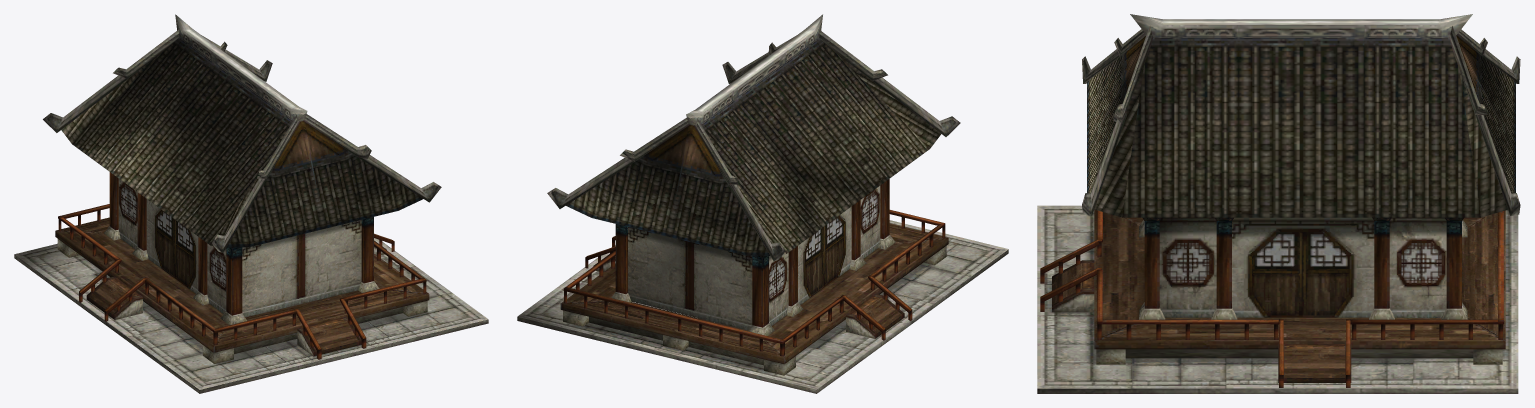
File: b1-008-house5_lod_01.glb
3 renders of one model, left to right at view 1: azimuth 30°, elevation 25°; view 2: azimuth 150°, elevation 25°; view 3: azimuth 270°, elevation 25°, orthographic. The views are drawn at different scales.
Parts seen in each view (by area): view 1: b1-008-house5-01, b1-008-house5-03, b1-008-house5-02; view 2: b1-008-house5-01, b1-008-house5-03, b1-008-house5-02; view 3: b1-008-house5-01, b1-008-house5-03, b1-008-house5-02.
Part boxes in pixels (box(x1,y1,x2,y2)): b1-008-house5-01: box(14, 14, 488, 393); b1-008-house5-03: box(55, 172, 488, 389); b1-008-house5-02: box(118, 179, 361, 317); b1-008-house5-01: box(517, 14, 1008, 393); b1-008-house5-03: box(559, 179, 1008, 375); b1-008-house5-02: box(628, 186, 880, 330); b1-008-house5-01: box(1037, 14, 1520, 393); b1-008-house5-03: box(1037, 205, 1505, 388); b1-008-house5-02: box(1159, 217, 1446, 317).
Size of the model in its own units: 14.74 by 10.82 by 16.45.
3 materials, 3 textured.
